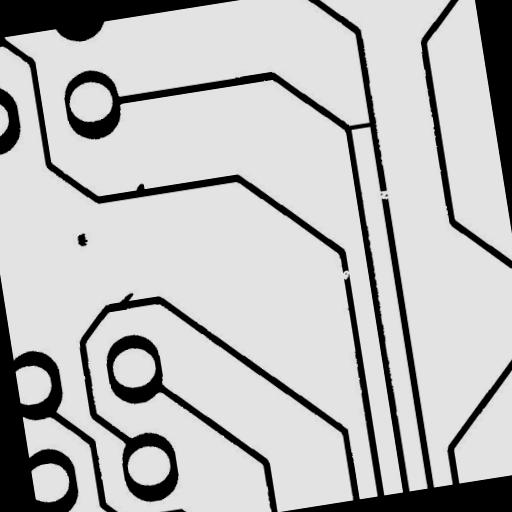copper: (68, 224, 96, 254)
open: (368, 180, 398, 208), (332, 261, 358, 288)
short: (338, 113, 378, 138)
spur: (109, 284, 143, 314), (126, 174, 152, 202)
